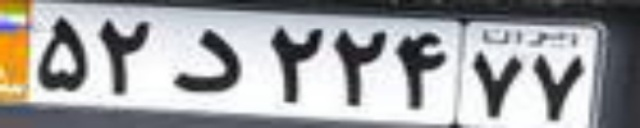2: (334, 27, 386, 107), (97, 18, 150, 94), (270, 26, 317, 103)
4: (396, 32, 445, 108)
5: (37, 14, 89, 93)
7: (531, 52, 588, 123), (472, 50, 524, 120)
dal: (170, 27, 243, 92)
